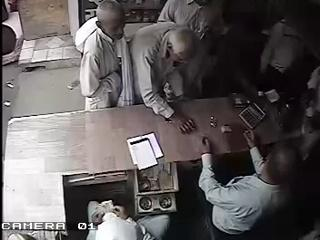Normal: (198, 130, 298, 240), (130, 22, 204, 132), (238, 102, 266, 130)
shoplifting: (76, 0, 134, 111)
